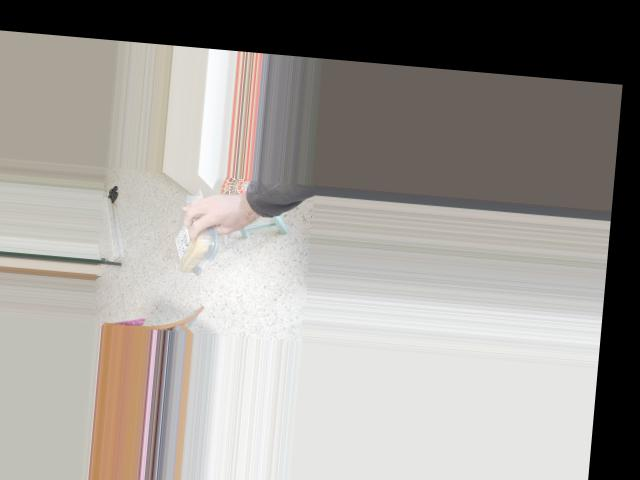cheese: (172, 199, 215, 276)
